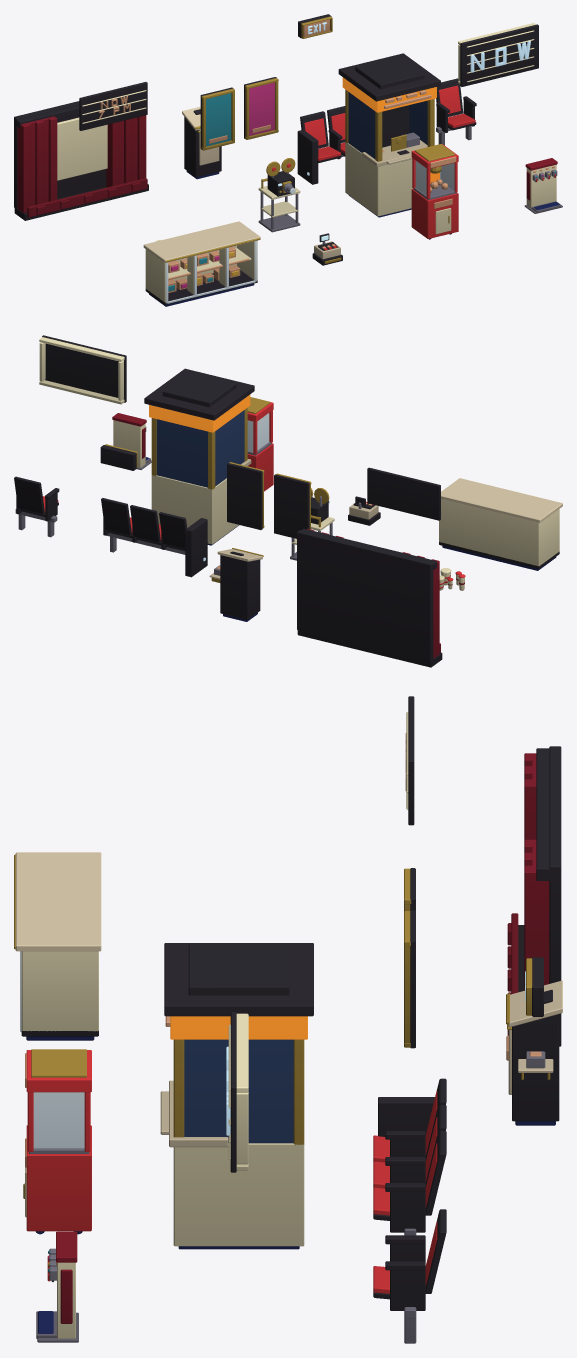
File: pack.glb
3 views of the same model, one above another, from view 1: azimuth 30°, elevation 25°; view 2: azimuth 150°, elevation 25°; view 3: azimuth 270°, elevation 25° (orthographic). The views are drawn at different scales.
Parts seen in each view (by area): view 1: screen_stage, ticket_booth, concession_counter, popcorn_machine, poster_lightboxes, now_sign, seat_row, letter_rows, projector, single_seat, usher_stand, soda_tower (+2 smaller); view 2: screen_stage, ticket_booth, concession_counter, now_sign, poster_lightboxes, seat_row, usher_stand, letter_rows, popcorn_machine, single_seat, soda_tower, projector (+2 smaller); view 3: ticket_booth, concession_counter, popcorn_machine, screen_stage, seat_row, usher_stand, single_seat, now_sign, soda_tower, poster_lightboxes, letter_rows, exit_sign.
Boxes of the visible parts, bbox=[...] form: screen_stage: bbox=[14, 101, 148, 220]; ticket_booth: bbox=[338, 53, 440, 217]; concession_counter: bbox=[143, 221, 260, 306]; popcorn_machine: bbox=[411, 144, 458, 239]; poster_lightboxes: bbox=[200, 77, 278, 150]; now_sign: bbox=[458, 23, 538, 86]; seat_row: bbox=[297, 106, 345, 184]; letter_rows: bbox=[79, 82, 147, 130]; projector: bbox=[258, 158, 300, 232]; single_seat: bbox=[436, 78, 476, 145]; usher_stand: bbox=[182, 106, 221, 179]; soda_tower: bbox=[524, 158, 562, 213]; screen_stage: bbox=[297, 528, 442, 667]; ticket_booth: bbox=[144, 368, 254, 545]; concession_counter: bbox=[439, 478, 562, 570]; now_sign: bbox=[39, 335, 126, 404]; poster_lightboxes: bbox=[227, 462, 311, 538]; seat_row: bbox=[101, 498, 207, 577]; usher_stand: bbox=[209, 548, 263, 621]; letter_rows: bbox=[367, 467, 440, 520]; popcorn_machine: bbox=[247, 397, 273, 491]; single_seat: bbox=[14, 476, 59, 537]; soda_tower: bbox=[112, 413, 151, 469]; projector: bbox=[290, 488, 334, 560]; ticket_booth: bbox=[160, 943, 313, 1249]; concession_counter: bbox=[14, 852, 101, 1040]; popcorn_machine: bbox=[23, 1049, 91, 1234]; screen_stage: bbox=[507, 746, 561, 1046]; seat_row: bbox=[373, 1078, 446, 1235]; usher_stand: bbox=[506, 980, 562, 1125]; single_seat: bbox=[373, 1209, 446, 1343]; now_sign: bbox=[226, 1012, 248, 1172]; soda_tower: bbox=[36, 1231, 78, 1342]; poster_lightboxes: bbox=[404, 868, 415, 1048]; letter_rows: bbox=[405, 696, 414, 825]; exit_sign: bbox=[525, 957, 543, 1016].
Size of the model in its own units: 8.55 by 2.6 by 4.62.
2 materials, 2 textured.
